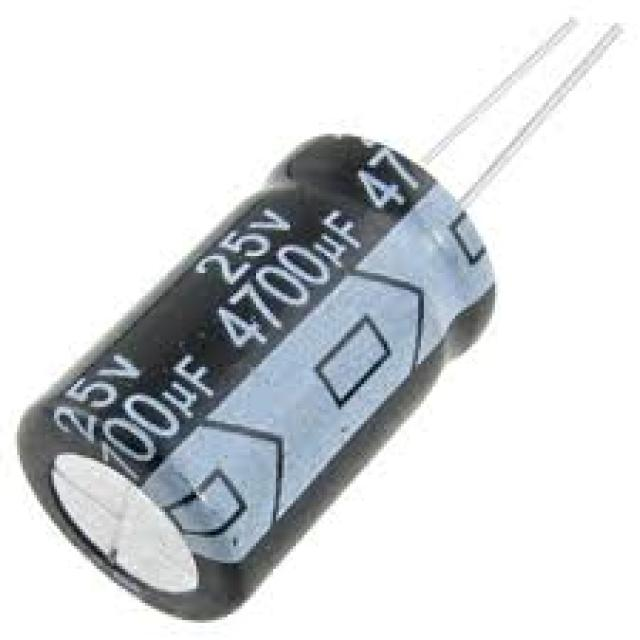Capacitor: (17, 134, 498, 623), (427, 17, 623, 208)
